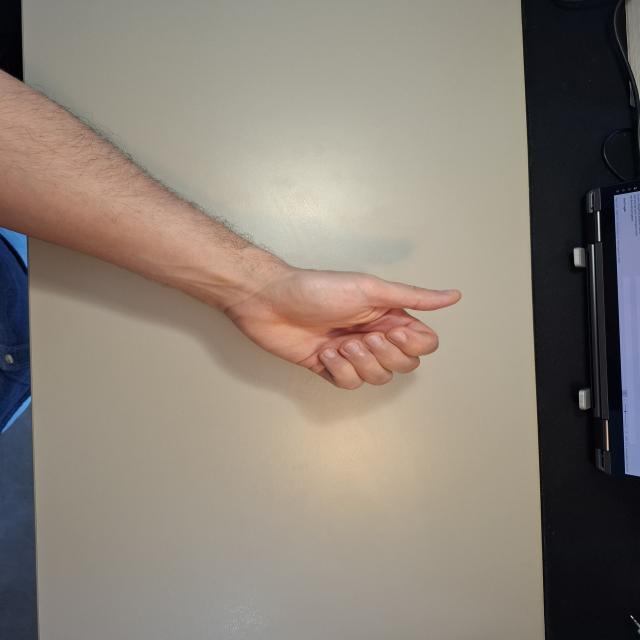glove_off: (215, 263, 464, 392)
